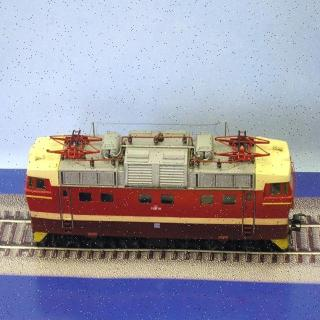poezd: (34, 130, 295, 248)
